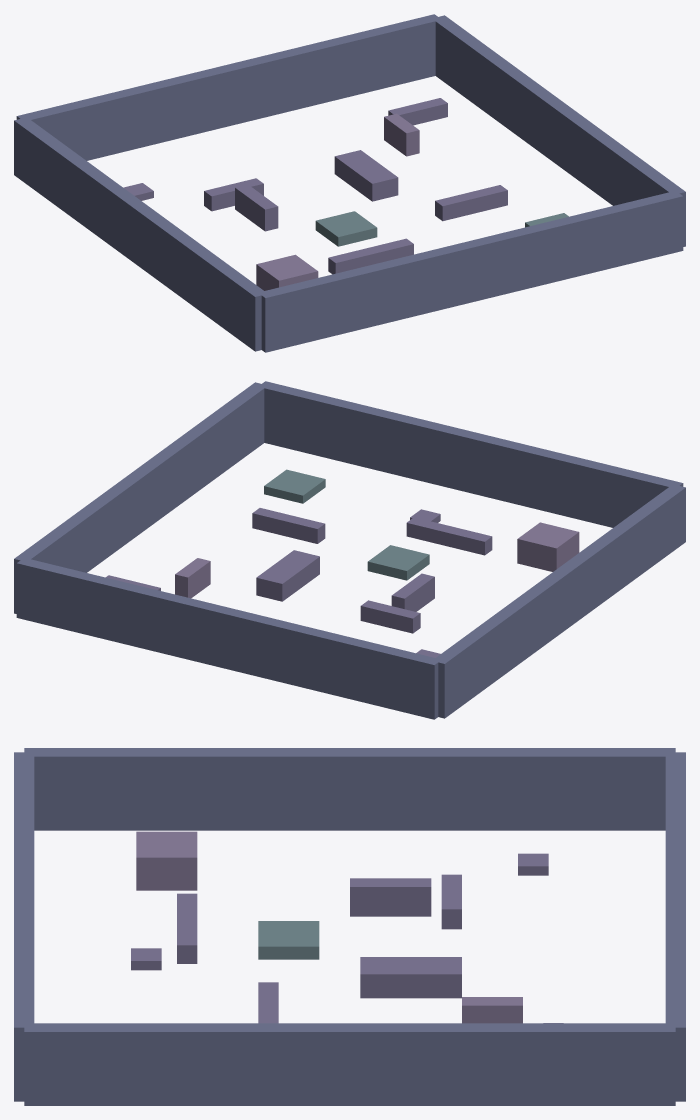
The model's file is map.glb.
3 views of the same model, one above another, from view 1: azimuth 30°, elevation 25°; view 2: azimuth 150°, elevation 25°; view 3: azimuth 270°, elevation 25° (orthographic). The views are drawn at different scales.
Parts seen in each view (by area): view 1: wall_1, wall_0, wall_2, wall_3, cover_7, cover_8, cover_10, tower_12, ramp_6, cover_5, tower_9, cover_15 (+1 smaller); view 2: wall_0, wall_1, wall_2, wall_3, tower_12, cover_7, cover_10, cover_8, ramp_6, ramp_11, cover_4, cover_5 (+1 smaller); view 3: wall_3, wall_2, wall_0, wall_1, cover_7, tower_12, cover_5, ramp_6, tower_9, cover_10, cover_4, cover_8 (+2 smaller).
Part boxes in pixels (x1,y1,x2,y2): wall_1: (258, 191, 683, 352); wall_0: (16, 14, 441, 160); wall_2: (14, 118, 263, 351); wall_3: (433, 15, 685, 246); cover_7: (334, 150, 398, 201); cover_8: (435, 185, 507, 221); cover_10: (328, 238, 413, 274); tower_12: (256, 254, 318, 290); ramp_6: (315, 211, 377, 246); cover_5: (235, 184, 278, 231); tower_9: (384, 113, 419, 156); cover_15: (388, 98, 447, 125); wall_0: (16, 558, 441, 719); wall_1: (258, 381, 683, 527); wall_2: (436, 486, 685, 718); wall_3: (14, 382, 267, 613); tower_12: (517, 522, 579, 571); cover_7: (256, 550, 319, 601); cover_10: (406, 517, 492, 555); cover_8: (252, 508, 325, 543); ramp_6: (367, 545, 429, 580); ramp_11: (264, 469, 325, 503); cover_4: (360, 600, 420, 633); cover_5: (391, 573, 434, 611); wall_3: (24, 1023, 675, 1105); wall_2: (24, 748, 675, 830); wall_0: (665, 752, 685, 1101); wall_1: (14, 752, 34, 1101); cover_7: (360, 957, 461, 998); tower_12: (136, 831, 197, 890); cover_5: (350, 878, 431, 916); ramp_6: (258, 921, 319, 959); tower_9: (462, 997, 522, 1023); cover_10: (177, 893, 197, 963); cover_4: (441, 874, 461, 929); cover_8: (258, 982, 278, 1023).
Bounding box in the file's own units: 66 × 8 × 66.
